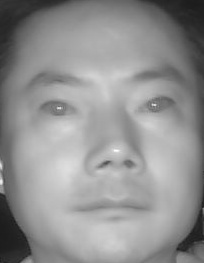eye: (37, 95, 80, 120), (134, 92, 178, 116)
mouth: (77, 185, 150, 226)
